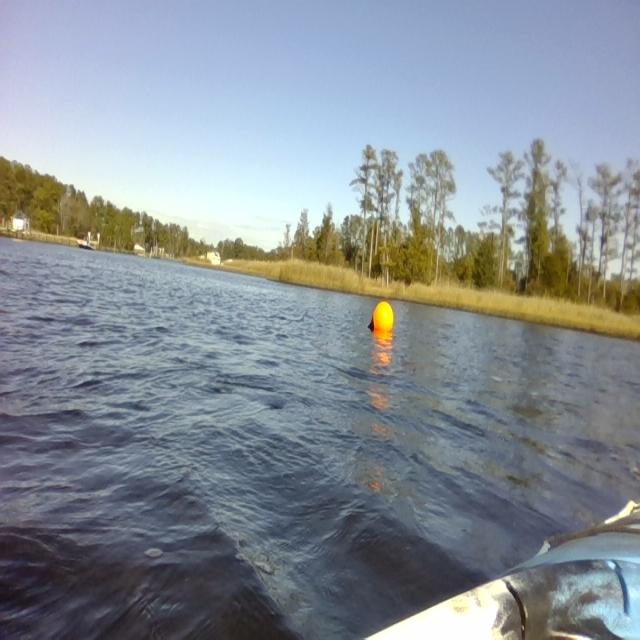Buoy: (362, 294, 399, 342)
